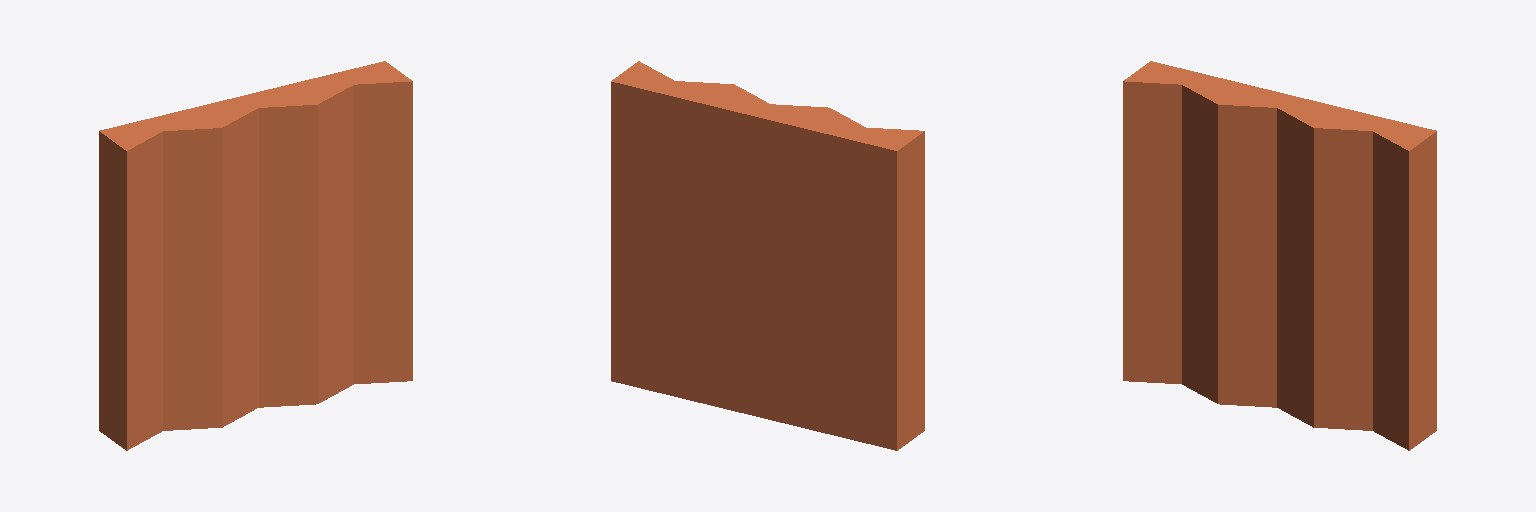
Rendered from cliff_rock.obj.
3 renders of one model, left to right at view 1: azimuth 30°, elevation 25°; view 2: azimuth 150°, elevation 25°; view 3: azimuth 330°, elevation 25°, orthographic.
Visible parts, largest first — view 1: cliff_rock; view 2: cliff_rock; view 3: cliff_rock.
Part boxes in pixels (x1,y1,x2,y2): cliff_rock: (99, 61, 412, 450); cliff_rock: (611, 61, 924, 450); cliff_rock: (1123, 61, 1436, 450).
Bounding box in the file's own units: 1 × 1 × 0.1685.